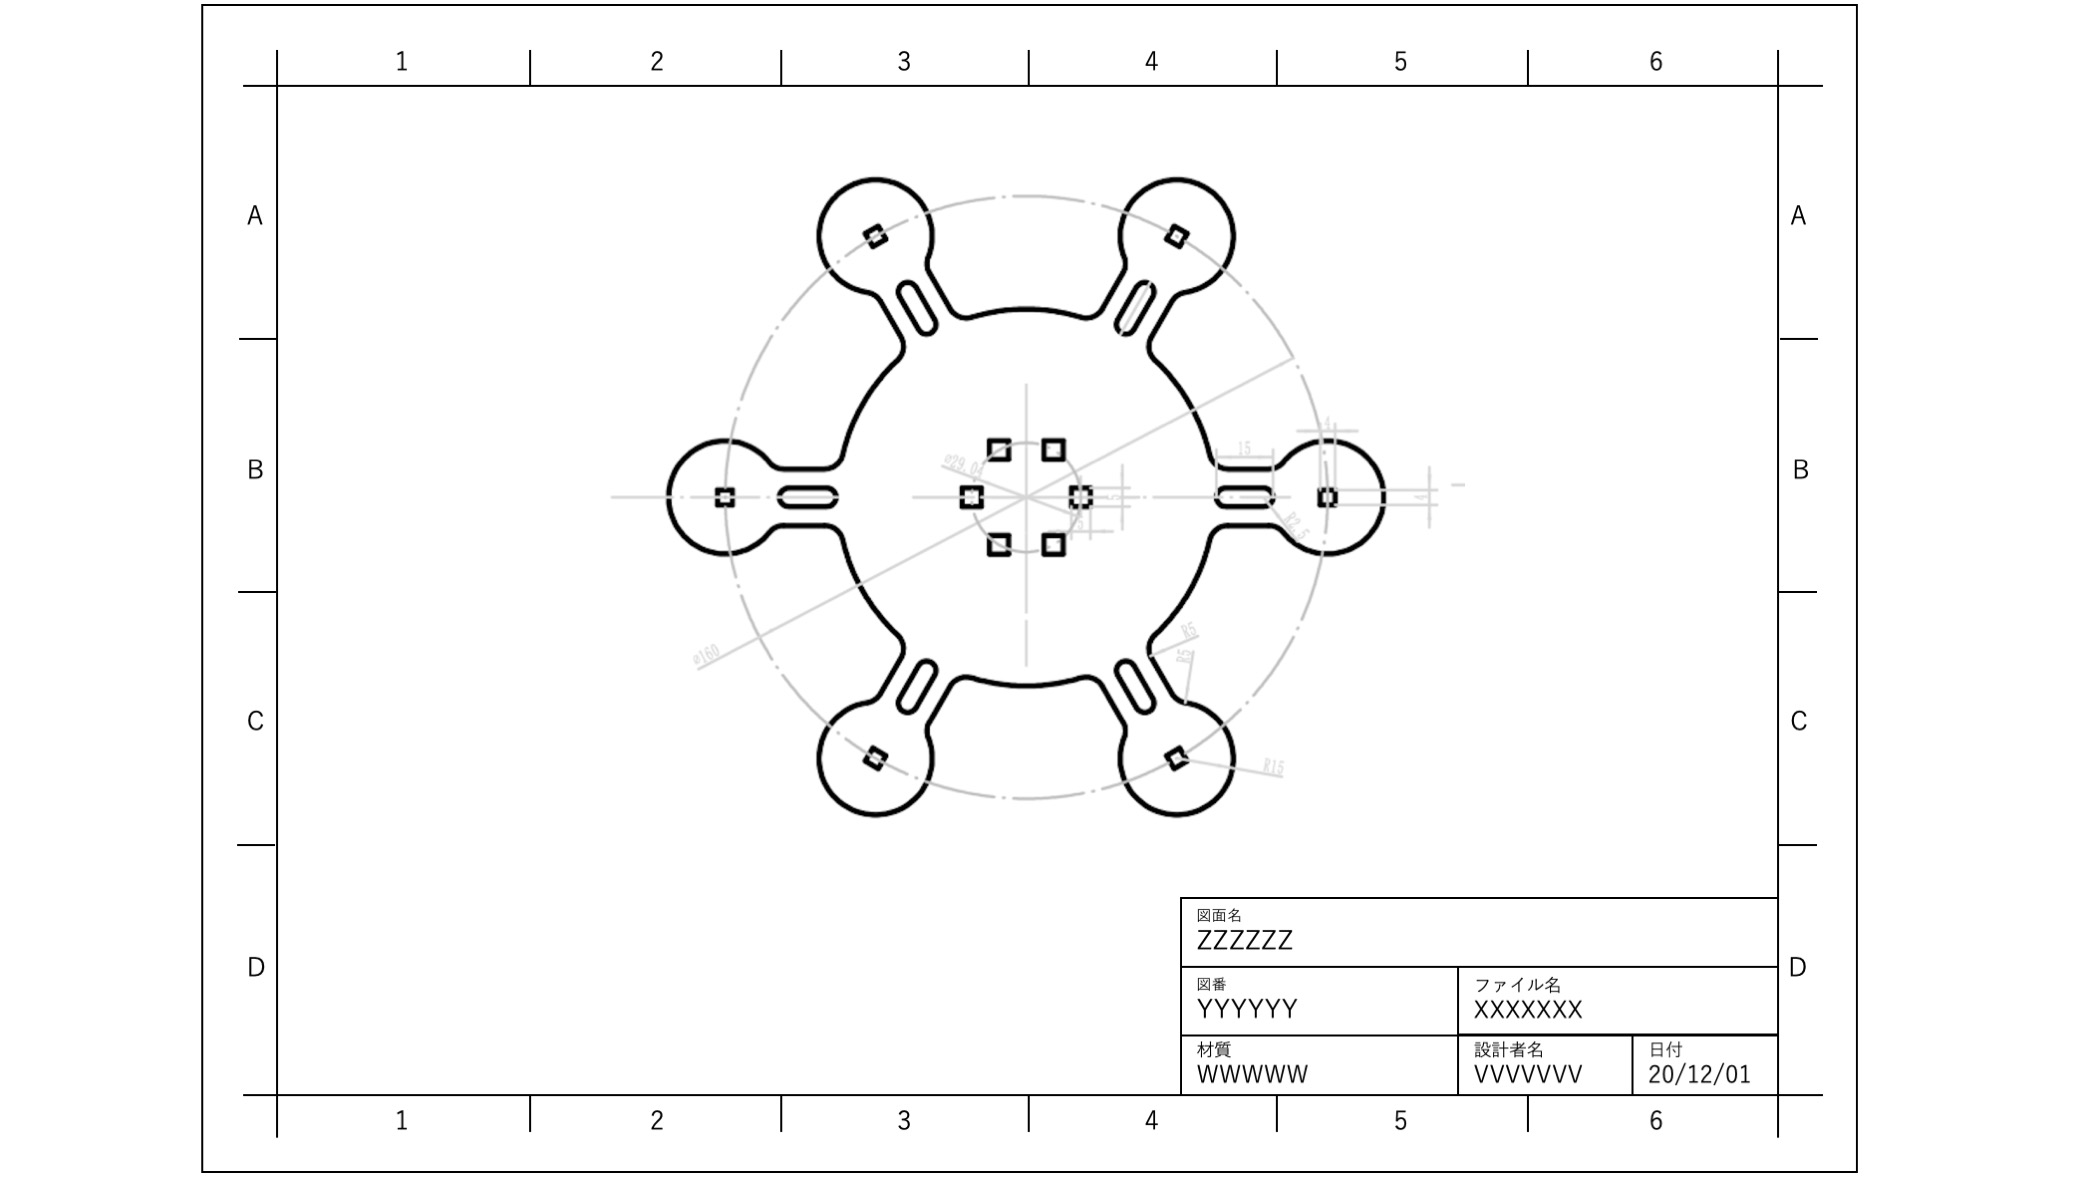rectangle: (984, 427, 1023, 472), (700, 474, 743, 513), (956, 474, 991, 518), (1160, 211, 1196, 251), (976, 521, 1012, 561), (860, 734, 887, 784), (1028, 435, 1075, 464), (1038, 521, 1070, 561), (1064, 477, 1098, 509), (1162, 737, 1188, 774), (858, 219, 890, 247), (1314, 477, 1337, 513)
round_rectangle: (1111, 273, 1168, 339), (1209, 480, 1292, 521), (893, 270, 942, 337), (1113, 655, 1160, 725), (896, 650, 940, 720), (772, 477, 842, 512)
